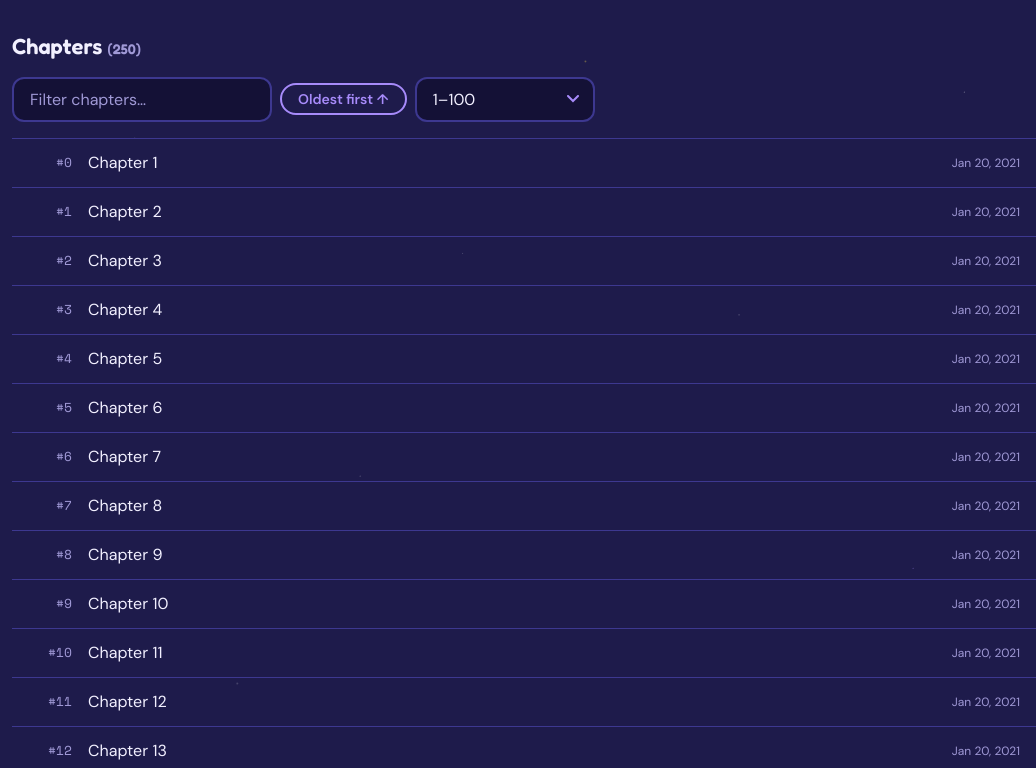
Scenario: ChapterList › filters by name (case-insensitive) and resets to page 1
Select "201–250" in the dropdown named "Chapter page": (505, 99) x1=415 y1=77 x2=595 y2=122
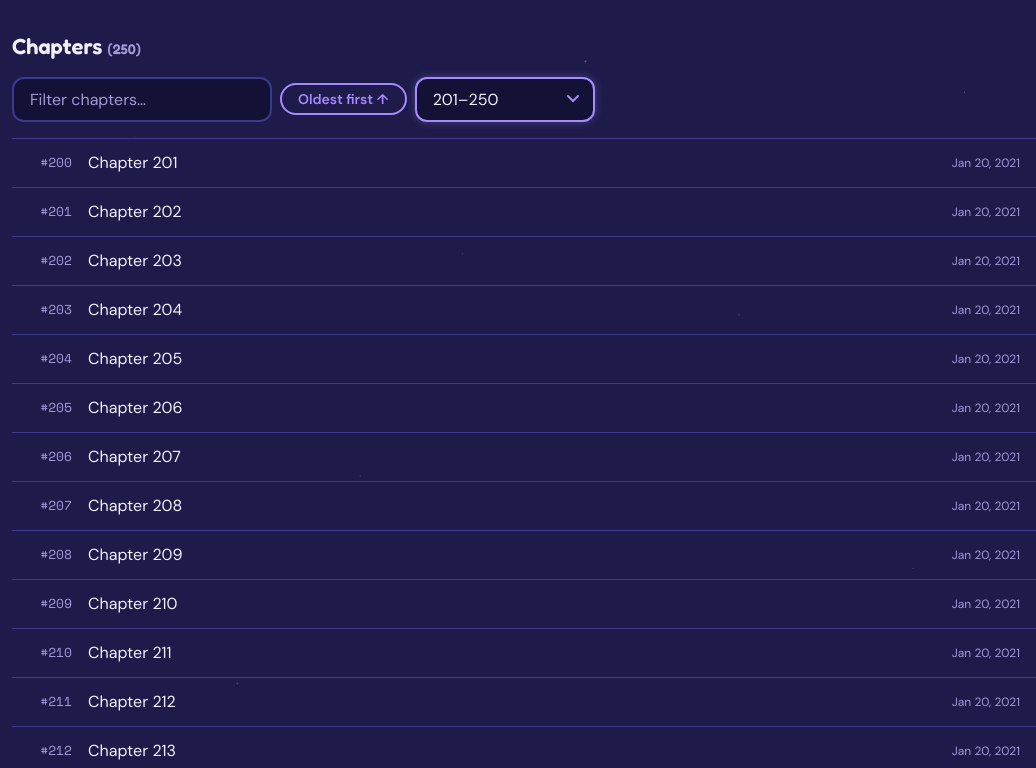
In the search field named "Filter chapters by name": (142, 99) x1=12 y1=77 x2=272 y2=122, type "chapter 250"
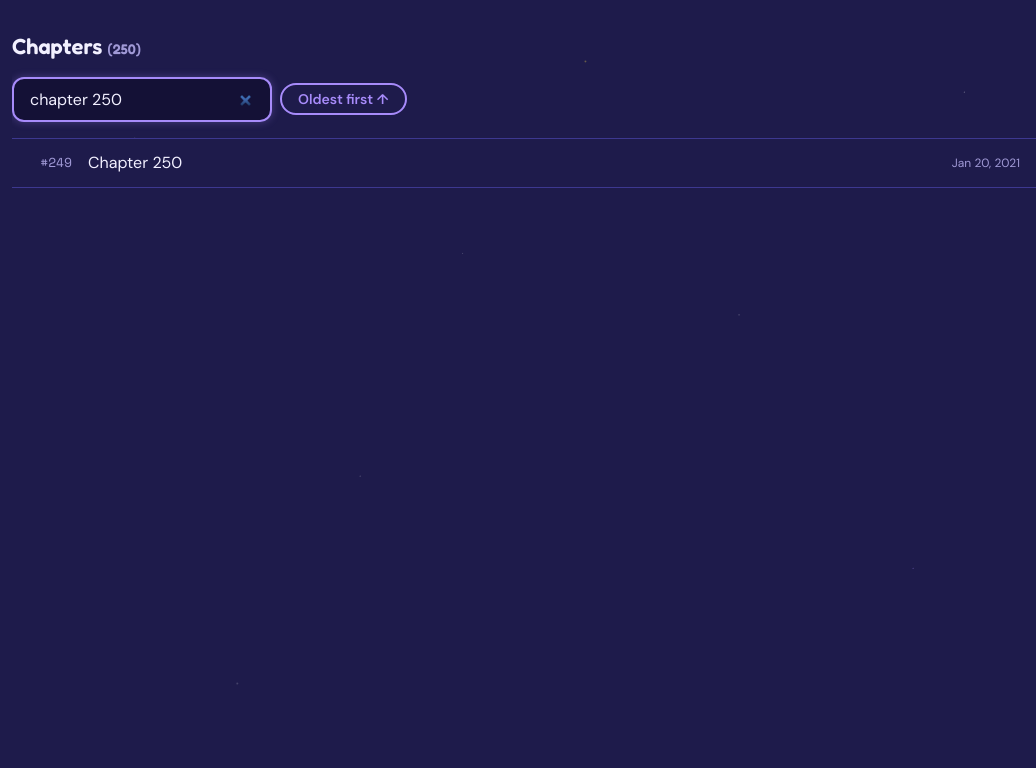
Now the list item shows "Chapter 250", box x1=12 y1=139 x2=1035 y2=187
Now the number of list items is 1, box x1=12 y1=139 x2=1035 y2=188
